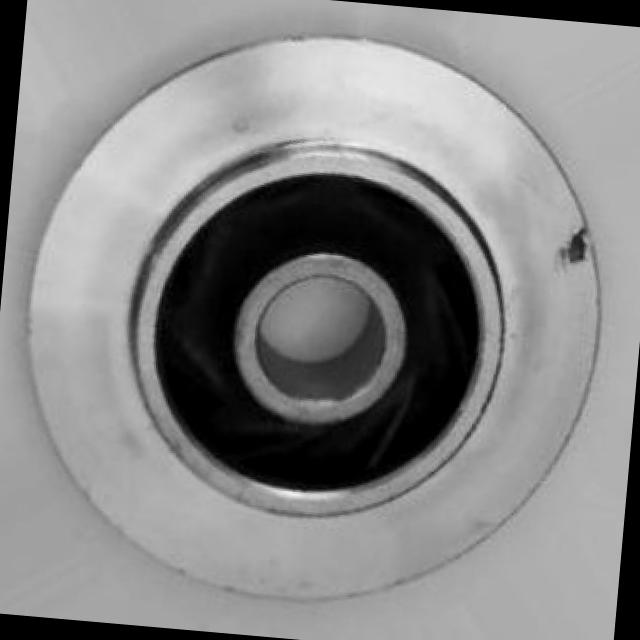Defect: (549, 218, 596, 280)
